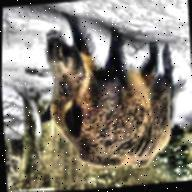boar: (32, 1, 192, 178)
